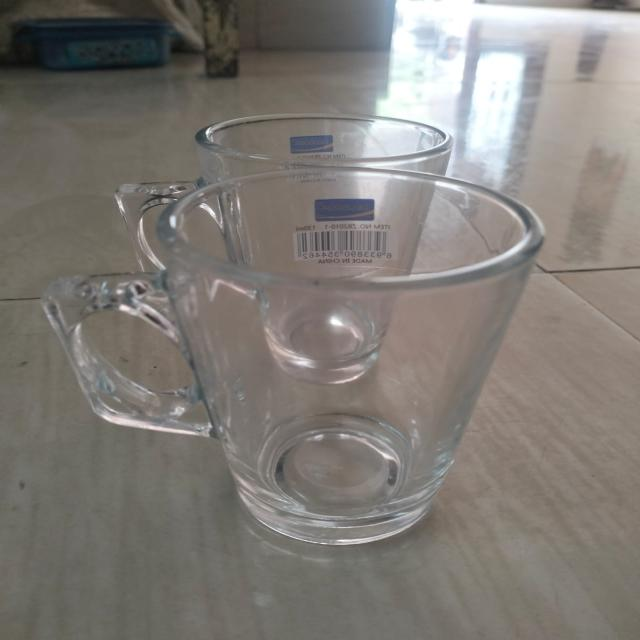glass-VX4N: (43, 171, 544, 548), (111, 115, 462, 384)
